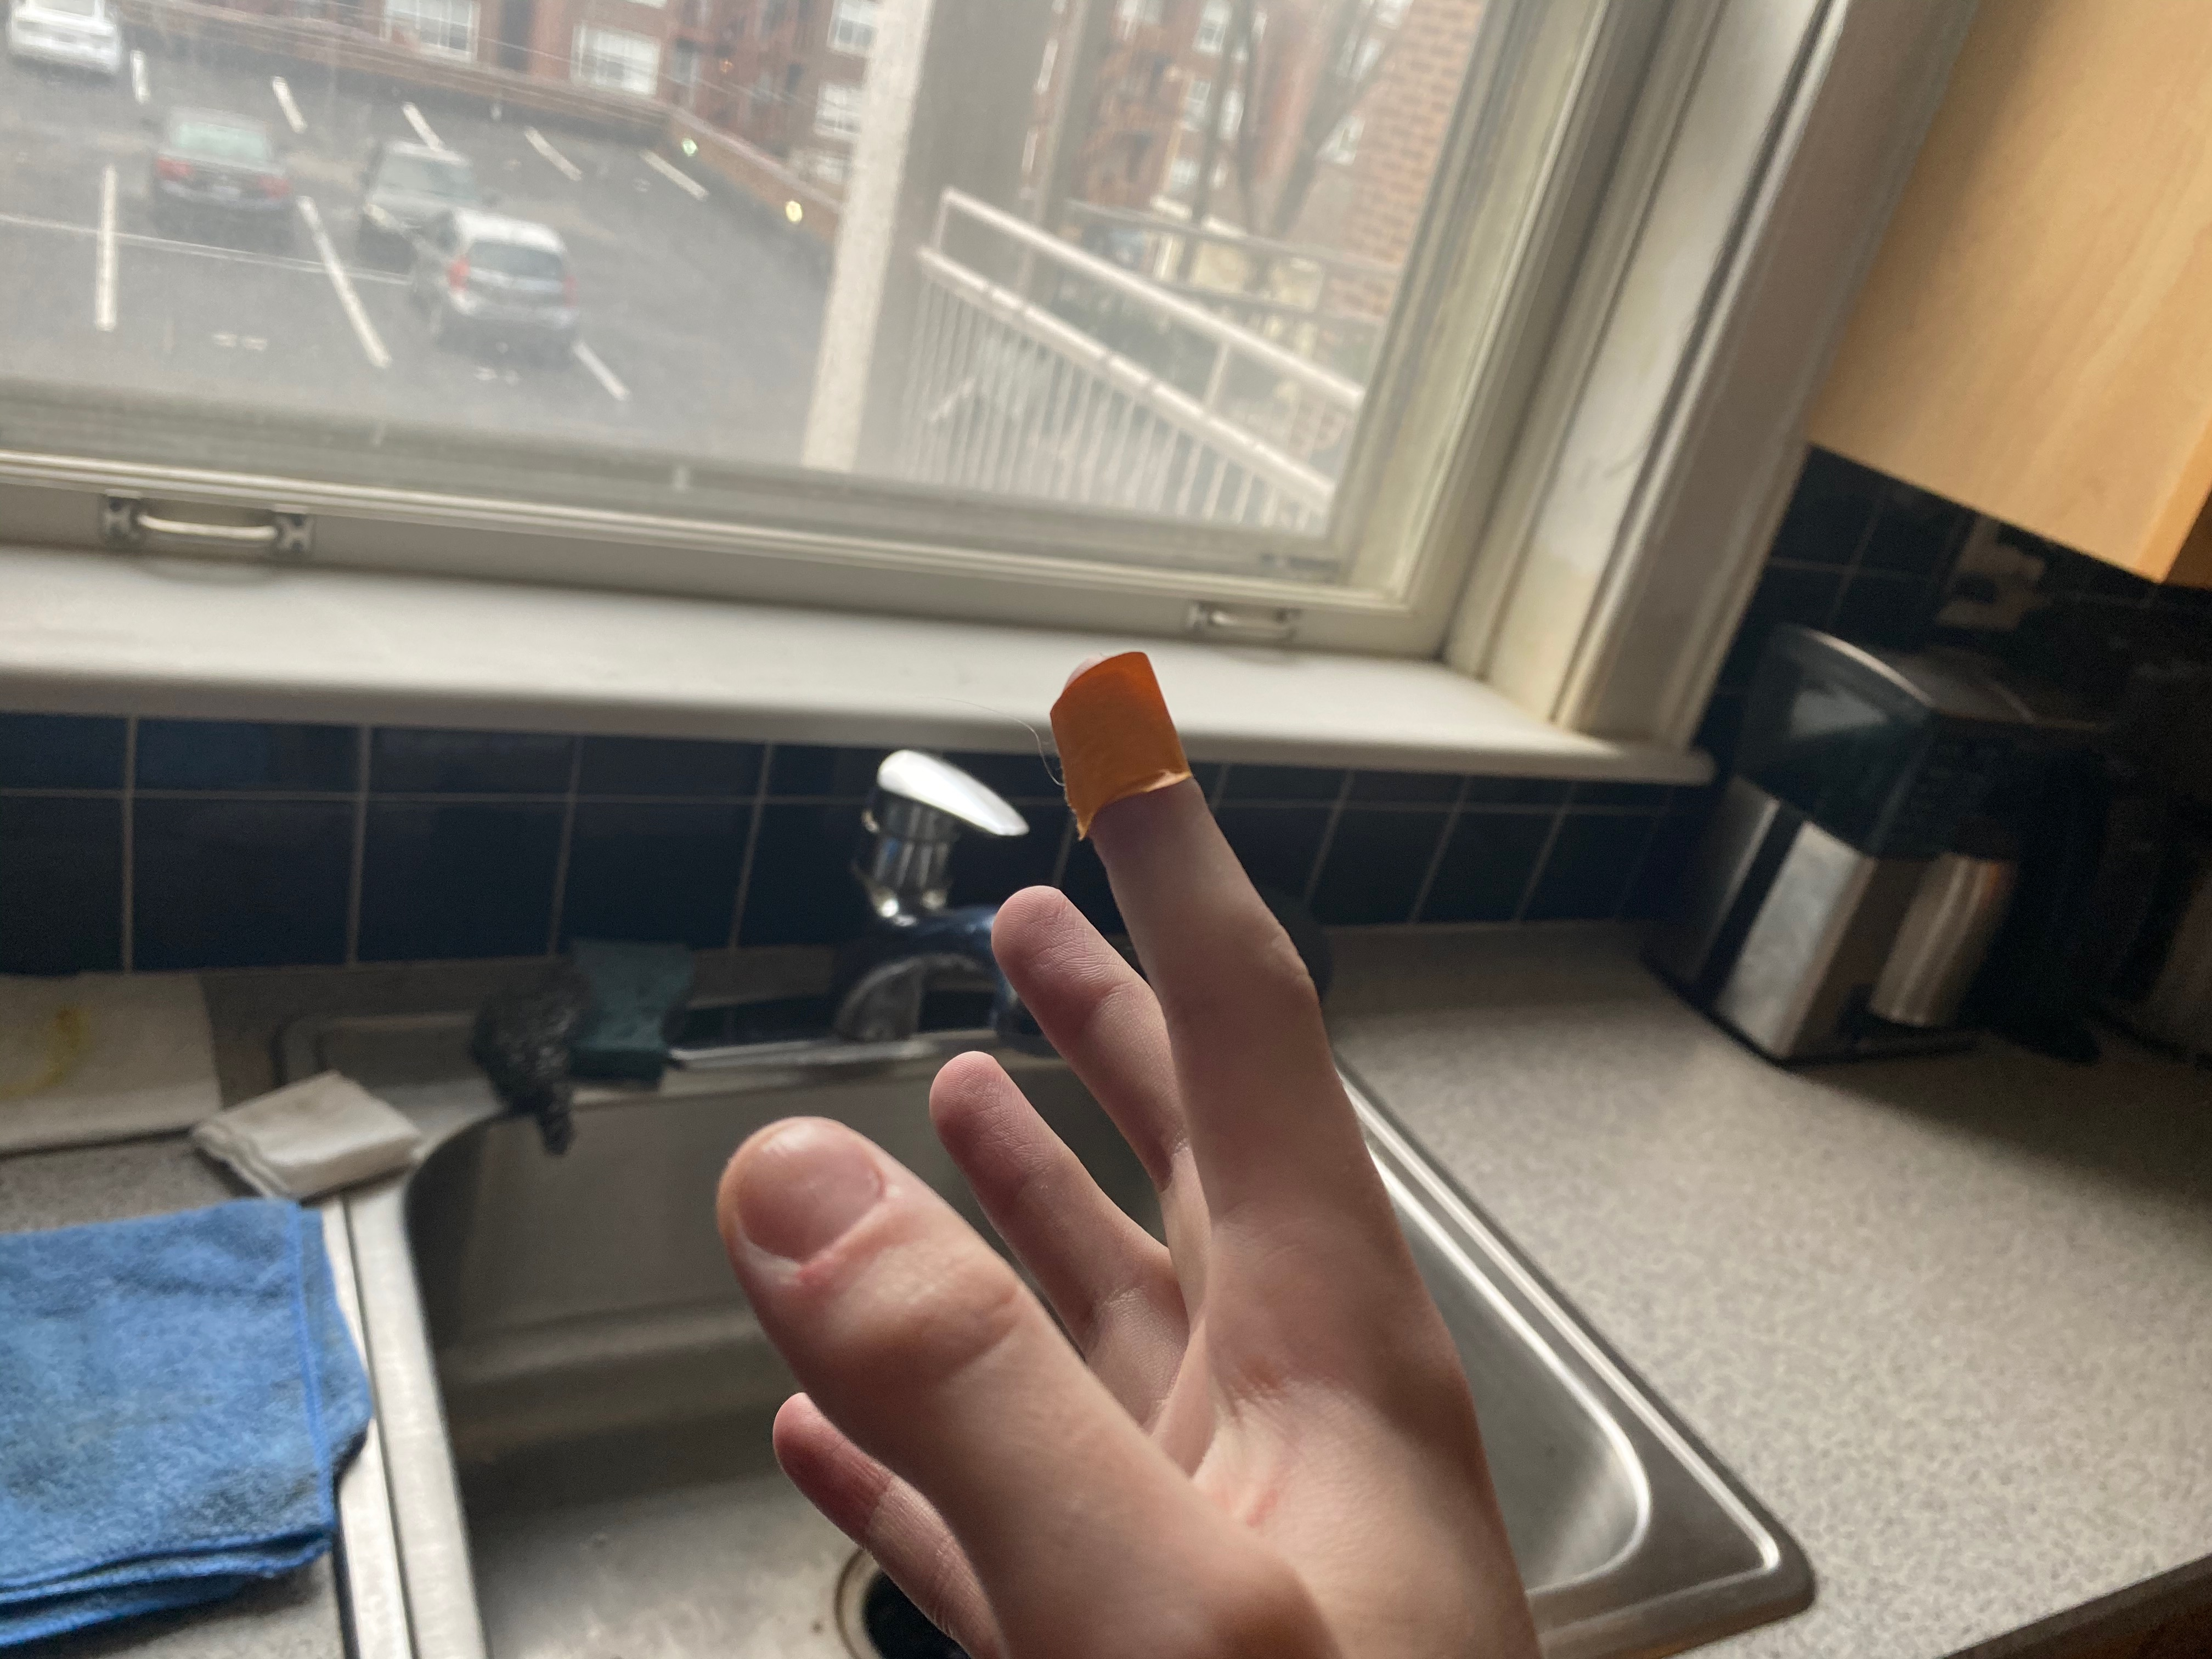fingertip: (1033, 638, 1273, 852)
